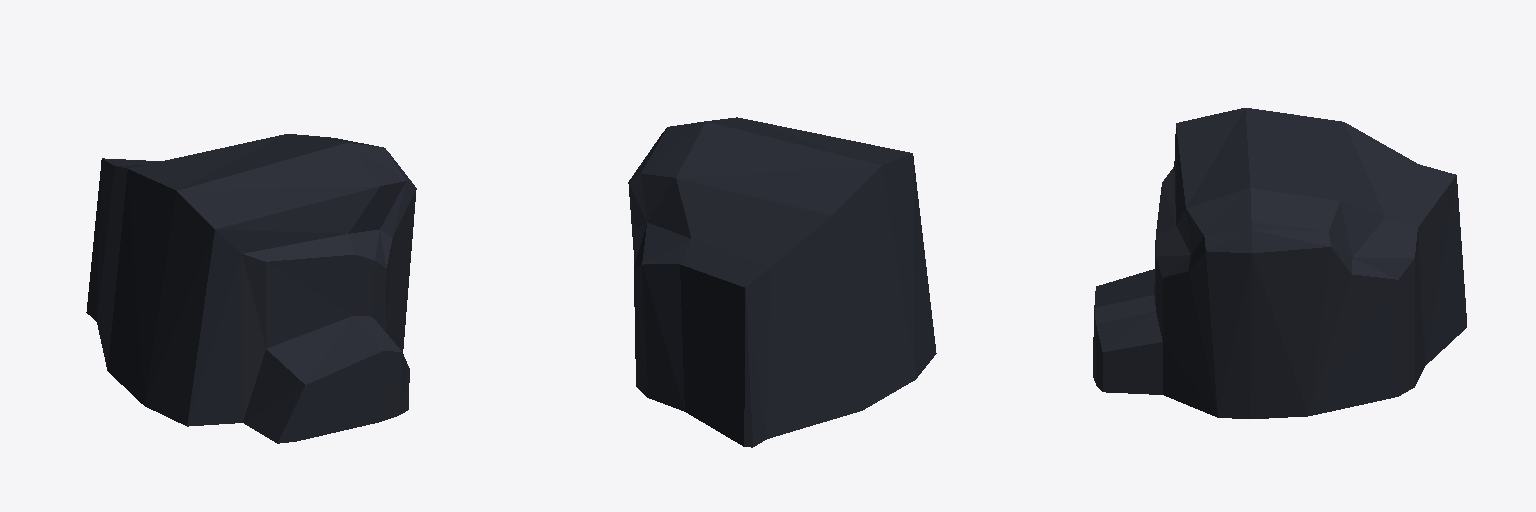
File: Rock_6_Cube.obj
3 renders of one model, left to right at view 1: azimuth 30°, elevation 25°; view 2: azimuth 150°, elevation 25°; view 3: azimuth 270°, elevation 25°, orthographic.
Parts seen in each view (by area): view 1: Rock_6_Cube.026; view 2: Rock_6_Cube.026; view 3: Rock_6_Cube.026.
Boxes of the visible parts, x1=… form: Rock_6_Cube.026: x1=86, y1=134, x2=416, y2=443; Rock_6_Cube.026: x1=628, y1=117, x2=936, y2=447; Rock_6_Cube.026: x1=1093, y1=108, x2=1466, y2=418.
Size of the model in its own units: 0.912 by 0.7078 by 1.14.